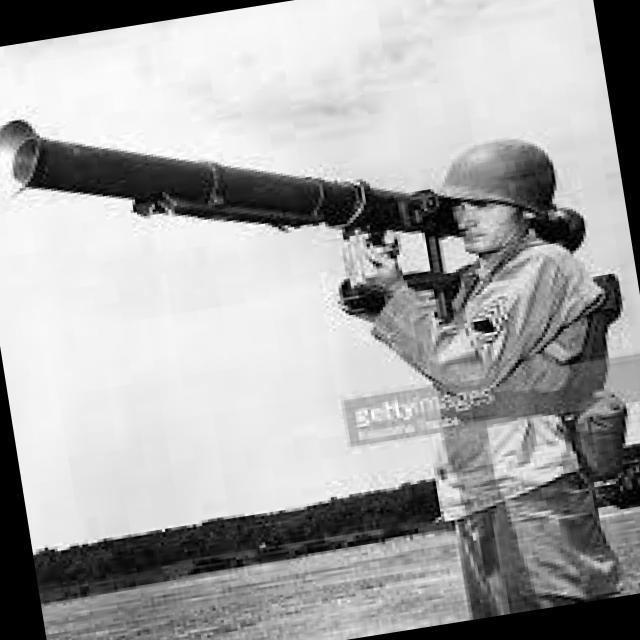rocket: (3, 28, 591, 340)
